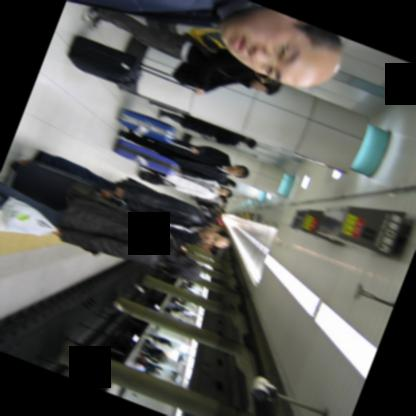backpack: (137, 169, 165, 184)
handbag: (63, 180, 176, 242), (186, 26, 228, 52), (138, 172, 173, 187)
suitcase: (67, 35, 174, 88), (8, 159, 100, 205), (116, 107, 191, 151), (112, 139, 178, 177), (144, 339, 151, 344)
